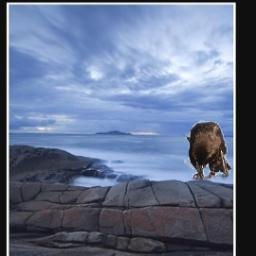Crow: (184, 120, 231, 180)
